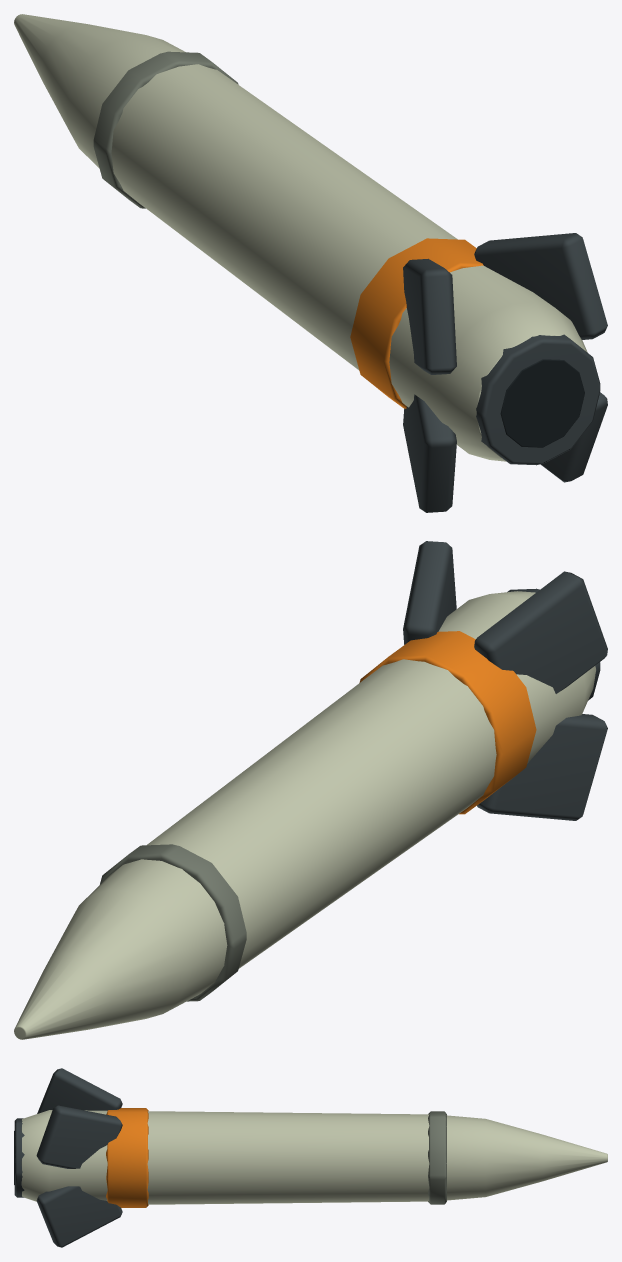
File: military-truck-ballistic-missile.glb
3 views of the same model, one above another, from view 1: azimuth 30°, elevation 25°; view 2: azimuth 150°, elevation 25°; view 3: azimuth 270°, elevation 25° (orthographic). The views are drawn at different scales.
Visible parts, largest first — view 1: TurretShell; view 2: TurretShell; view 3: TurretShell.
Part boxes in pixels (left/top/right/bottom): TurretShell: left=14, top=14, right=607, bottom=512; TurretShell: left=14, top=541, right=607, bottom=1039; TurretShell: left=14, top=1068, right=607, bottom=1247.
Size of the model in its own units: 0.3803 by 0.4829 by 1.88.
